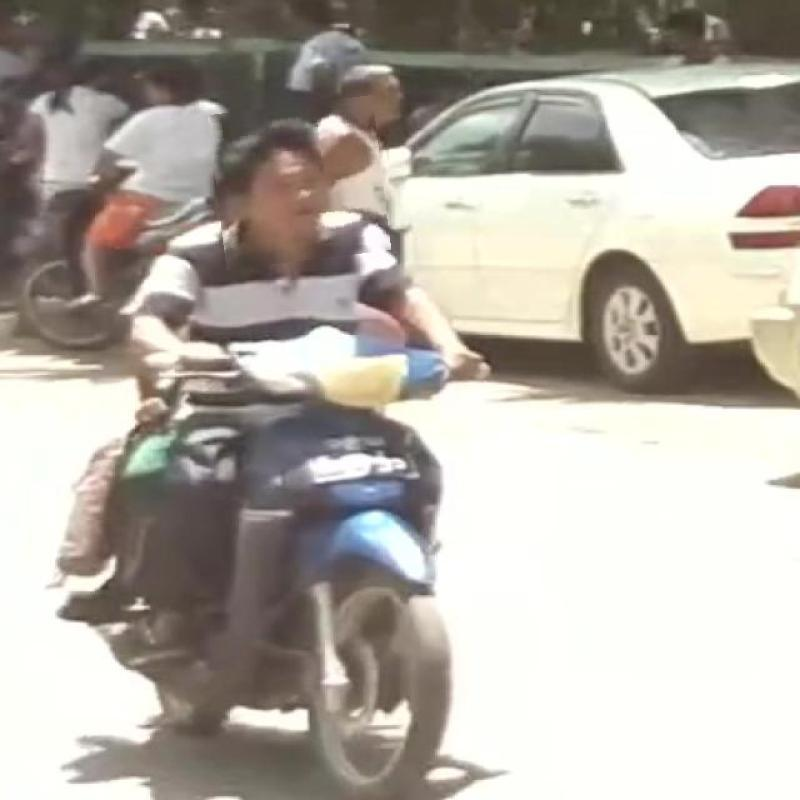nohelmet: (212, 100, 388, 266)
